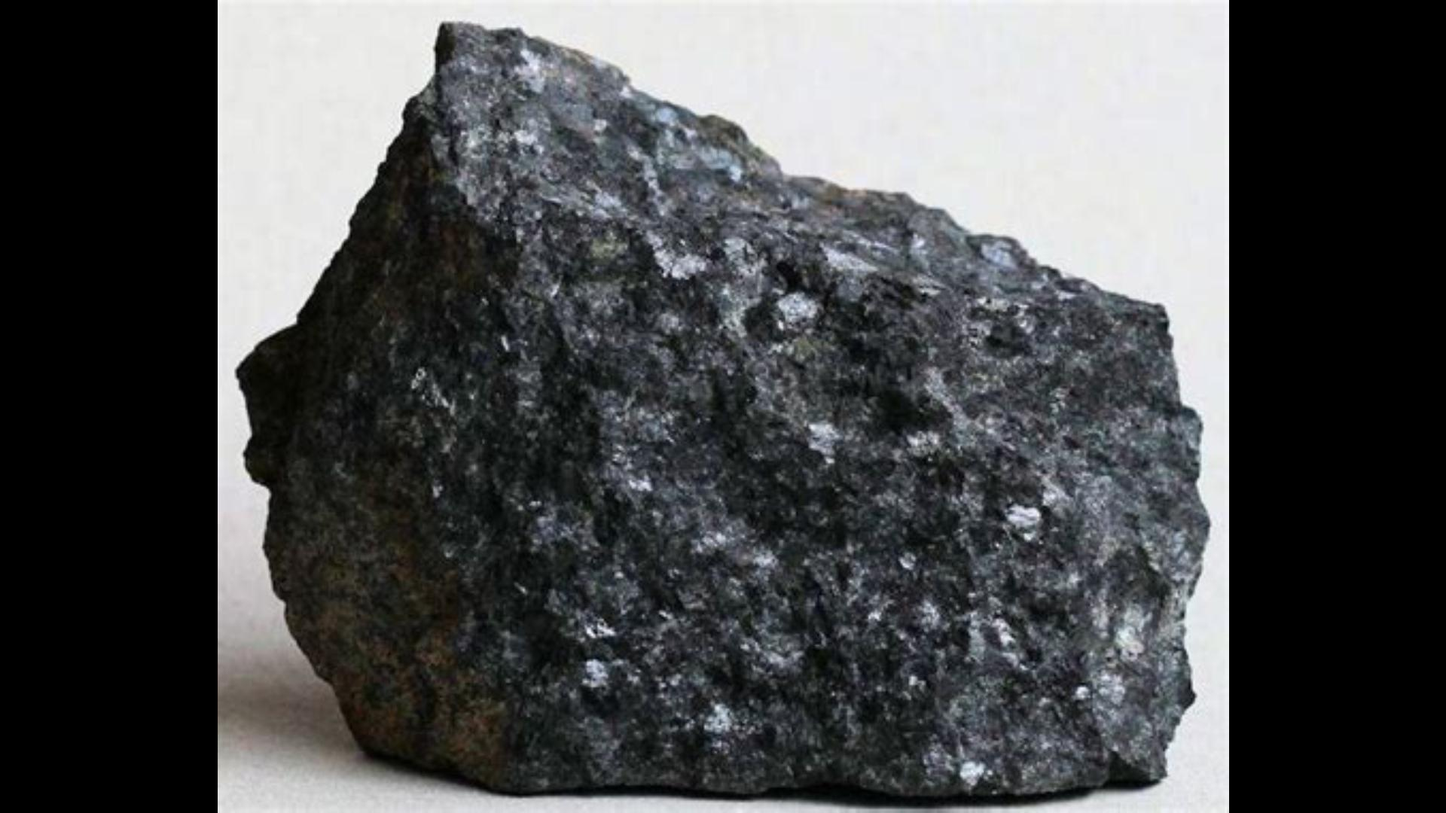rock: (238, 26, 1203, 787)
